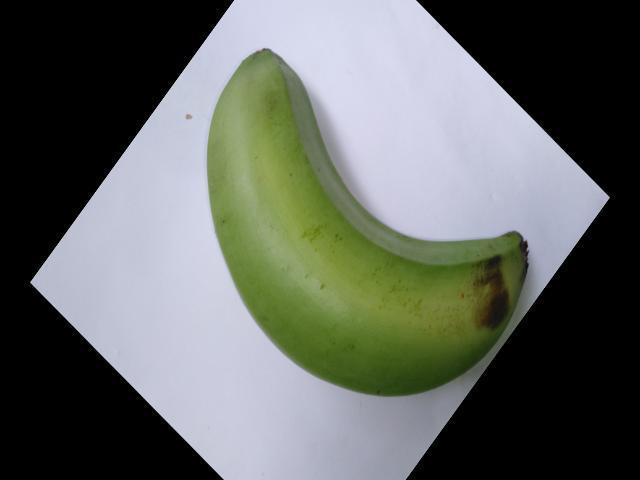freshunripe: (189, 34, 538, 405)
